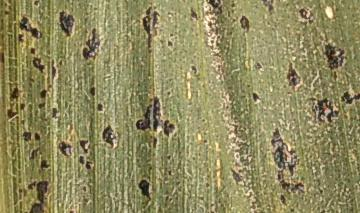tarspot: (270, 122, 308, 195), (134, 94, 176, 138), (140, 1, 161, 55), (26, 178, 52, 213), (311, 95, 340, 124), (80, 26, 102, 60), (17, 14, 45, 40), (322, 42, 348, 70), (283, 60, 302, 93), (56, 9, 76, 38), (100, 123, 118, 150), (296, 7, 316, 26), (137, 179, 154, 201), (202, 1, 224, 16), (340, 90, 360, 106), (57, 140, 74, 158), (228, 167, 244, 184), (31, 57, 46, 74), (187, 3, 200, 22), (29, 145, 44, 161), (260, 1, 276, 15), (239, 15, 251, 33), (8, 87, 22, 102), (38, 156, 51, 171), (277, 193, 290, 208), (5, 107, 19, 120), (252, 60, 265, 73), (250, 90, 262, 104), (13, 186, 28, 197), (50, 106, 61, 120), (76, 153, 88, 165), (21, 129, 32, 142), (95, 100, 105, 114), (150, 135, 159, 150), (38, 88, 49, 100), (88, 84, 97, 98), (15, 31, 24, 44), (232, 123, 241, 136), (84, 159, 94, 170), (26, 76, 35, 88), (166, 38, 175, 50), (28, 45, 38, 55), (33, 131, 42, 142), (306, 95, 318, 103), (18, 101, 27, 111), (37, 100, 47, 109), (190, 65, 199, 75), (56, 58, 65, 67), (234, 149, 245, 156), (1, 50, 6, 65), (206, 29, 215, 37), (333, 71, 339, 83), (19, 118, 27, 126), (46, 82, 54, 90), (32, 1, 41, 8), (211, 53, 223, 58), (165, 153, 173, 160), (165, 89, 172, 97), (250, 201, 257, 209), (81, 184, 87, 193), (239, 157, 249, 162), (204, 181, 211, 188), (214, 40, 221, 47), (230, 1, 237, 8), (318, 187, 325, 194), (334, 6, 341, 13), (168, 31, 174, 38), (166, 170, 173, 176), (286, 89, 293, 95), (290, 206, 297, 212), (281, 84, 289, 89), (203, 139, 209, 145), (207, 21, 213, 27), (209, 39, 215, 45), (214, 28, 219, 35), (208, 46, 215, 51), (232, 137, 237, 144), (216, 34, 222, 39), (216, 64, 222, 69), (228, 30, 234, 35), (232, 18, 237, 24), (235, 153, 240, 158), (225, 126, 231, 130), (217, 68, 221, 73), (221, 70, 226, 74), (237, 144, 242, 148), (236, 139, 241, 143)
